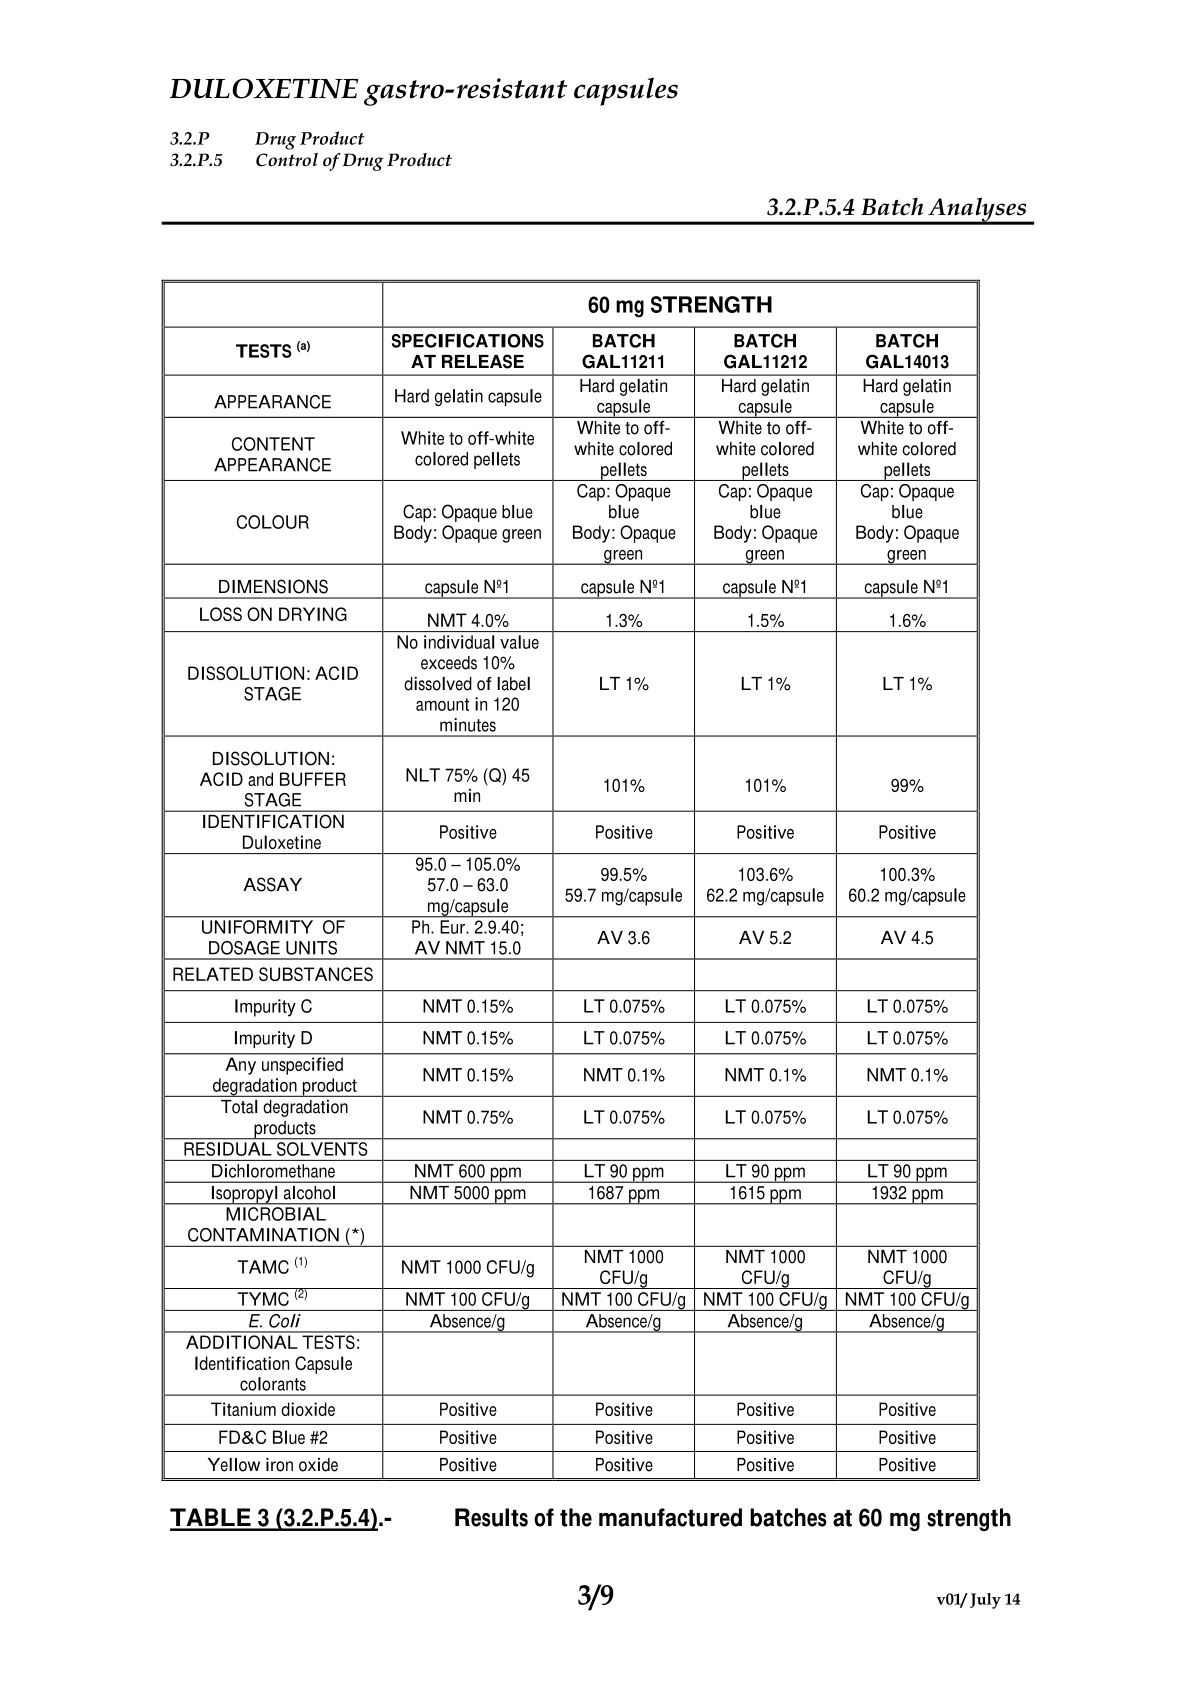merged_cells: (160, 280, 980, 1480)
